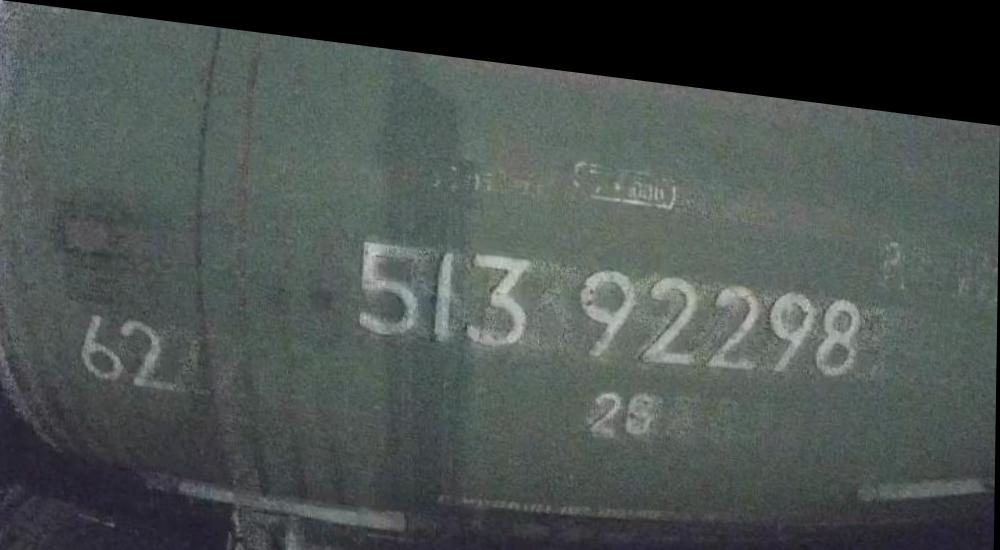Wagon-number: (347, 218, 874, 375)
